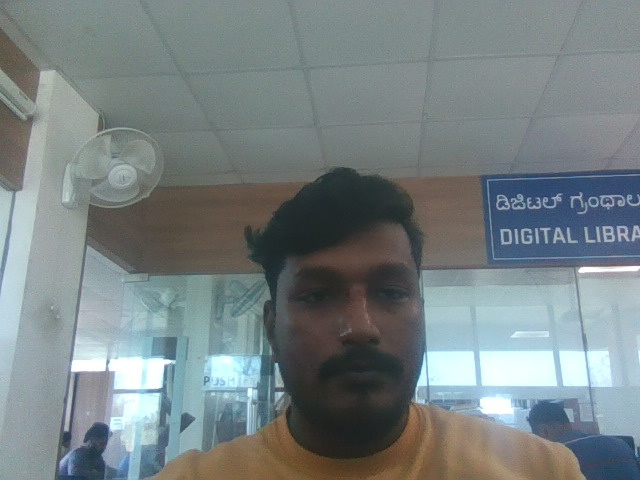real: (247, 149, 455, 444)
